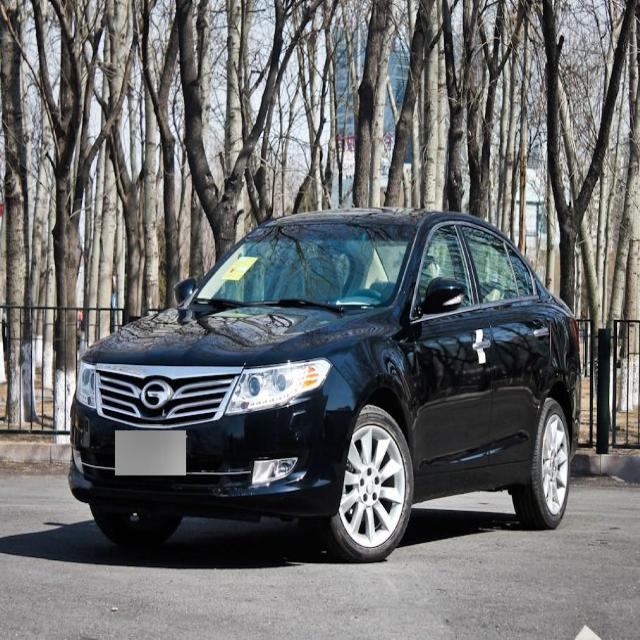back_left_side_light: (569, 312, 581, 353)
door: (463, 223, 544, 483)
front_bumper: (68, 395, 358, 515)
front_glass: (191, 220, 421, 306)
front_left_side_door: (406, 214, 494, 486)
front_left_side_light: (224, 354, 334, 418)
front_left_side_mirror: (410, 277, 467, 320)
front_right_side_light: (75, 357, 98, 411)
front_right_side_mirror: (172, 276, 196, 309)
wheel: (319, 404, 415, 561), (509, 396, 572, 530), (90, 504, 186, 550)
